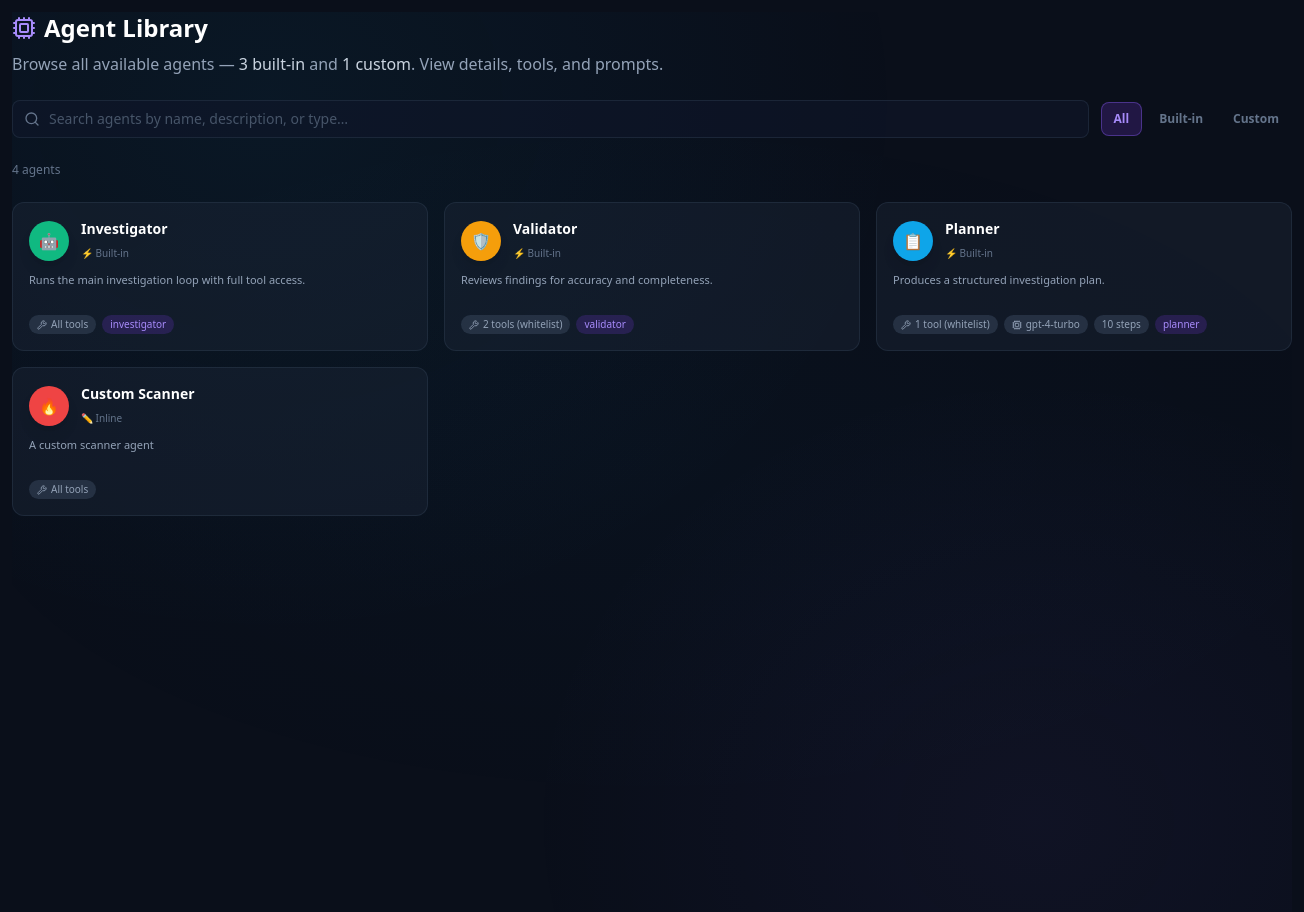
AgentLibrary › resets to All filter
The width and height of the screenshot is (1304, 912).
Check: the heading "Custom Scanner" is shown, box [81,384,195,403]
Click the button "Custom".
click(1256, 119)  # box [1220,102,1292,136]
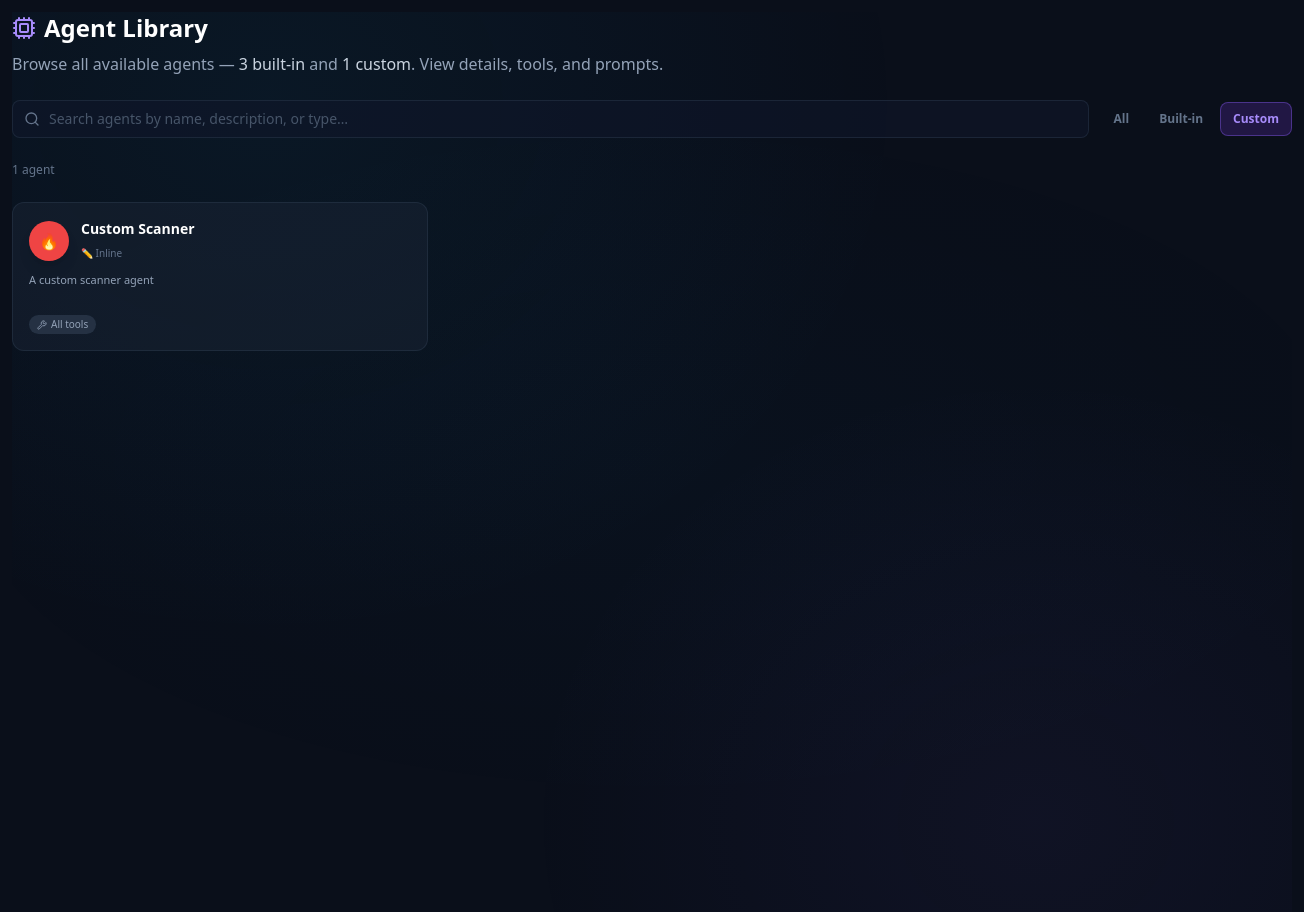
Check: the heading "Investigator" is gone
Click the button "All".
click(1121, 119)  # box [1101,102,1142,136]
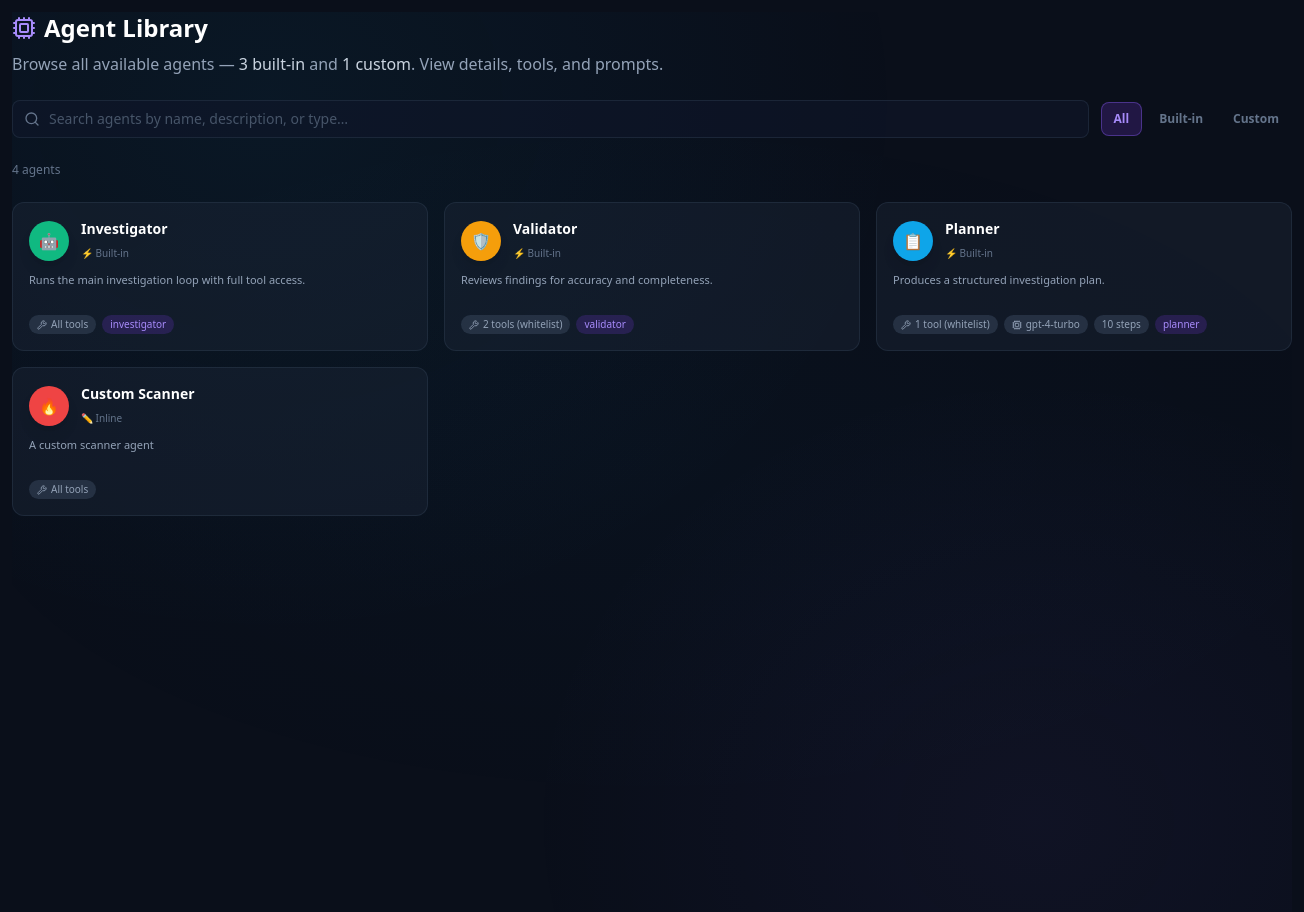
Check: the heading "Custom Scanner" is shown, box [81,384,195,403]
Check: the heading "Investigator" is shown, box [81,219,168,238]
